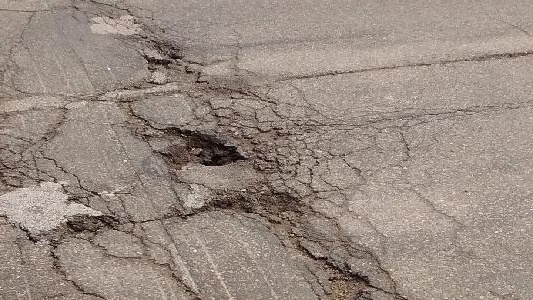pothole: (167, 124, 248, 171), (210, 186, 301, 215), (318, 262, 376, 299), (137, 38, 185, 74), (60, 212, 117, 239)
